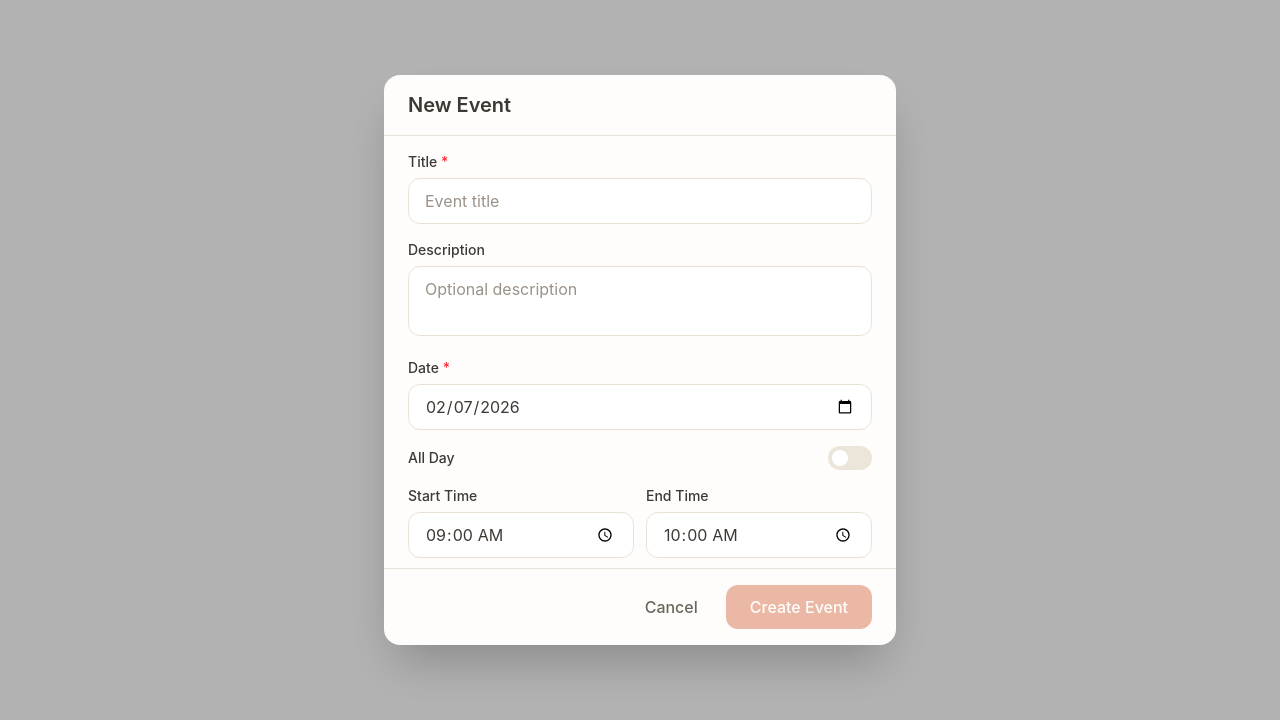
EventFormModal › all-day toggle › hides time inputs when All Day is on
Expected: the text "Start Time" is shown, [408, 487, 477, 504]
# Toggle All Day on
Click the switch at [850, 458], box [828, 446, 872, 470]
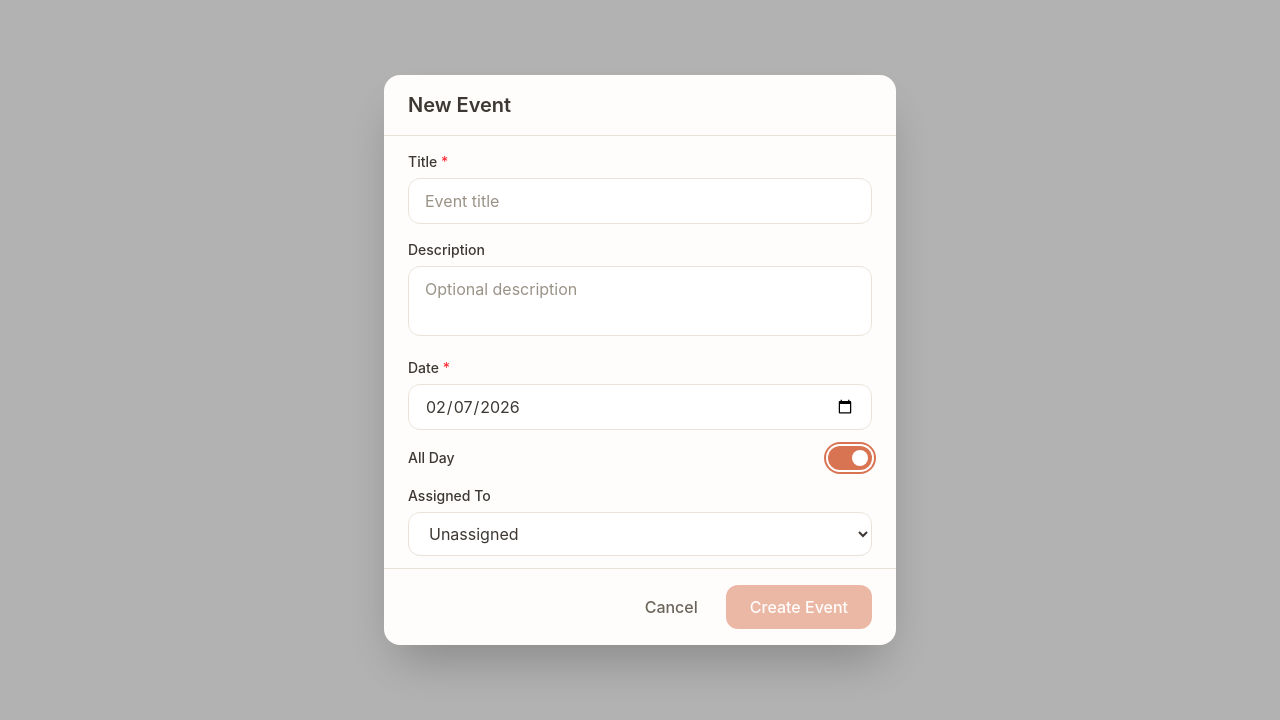
Result: the text "Start Time" is gone
Result: the text "End Time" is gone
